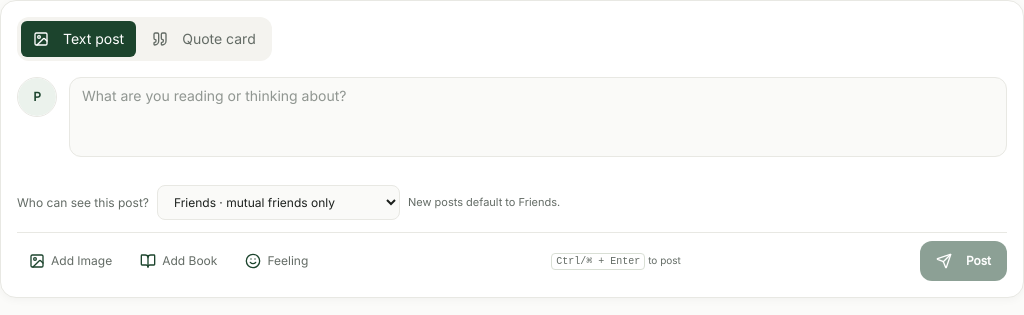
Scenario: FeedComposer › submits text post on button click
The width and height of the screenshot is (1024, 315).
Later steps or results of the test are not shown.
In the text box with placeholder "What are you reading or thinking about?": (538, 117) [69, 77, 1007, 157], type "Enjoying a quiet evening with Murakami."
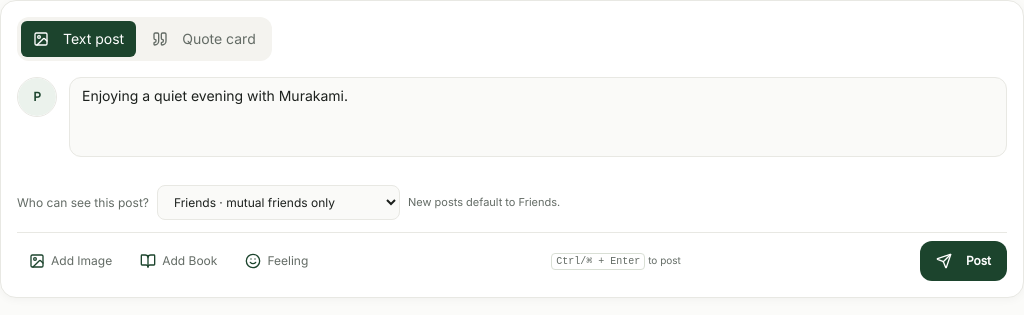
Check: the button "Post" is enabled, box [920, 241, 1007, 281]
